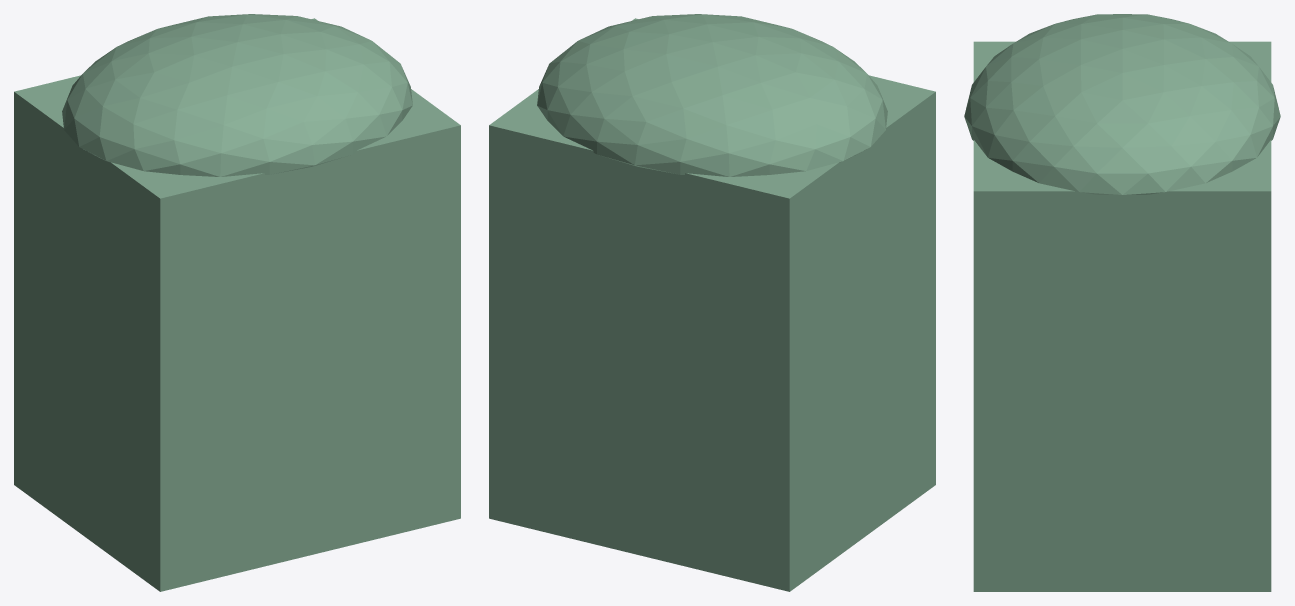
File: recycling.glb
3 views of the same model, side by side, from view 1: azimuth 30°, elevation 25°; view 2: azimuth 150°, elevation 25°; view 3: azimuth 270°, elevation 25° (orthographic).
Parts seen in each view (by area): view 1: recycling; view 2: recycling; view 3: recycling.
Part boxes in pixels (x1,y1,x2,y2): recycling: (14,14,460,591); recycling: (489,14,935,591); recycling: (964,14,1280,591).
Size of the model in its own units: 0.7207 by 1 by 0.6126.
